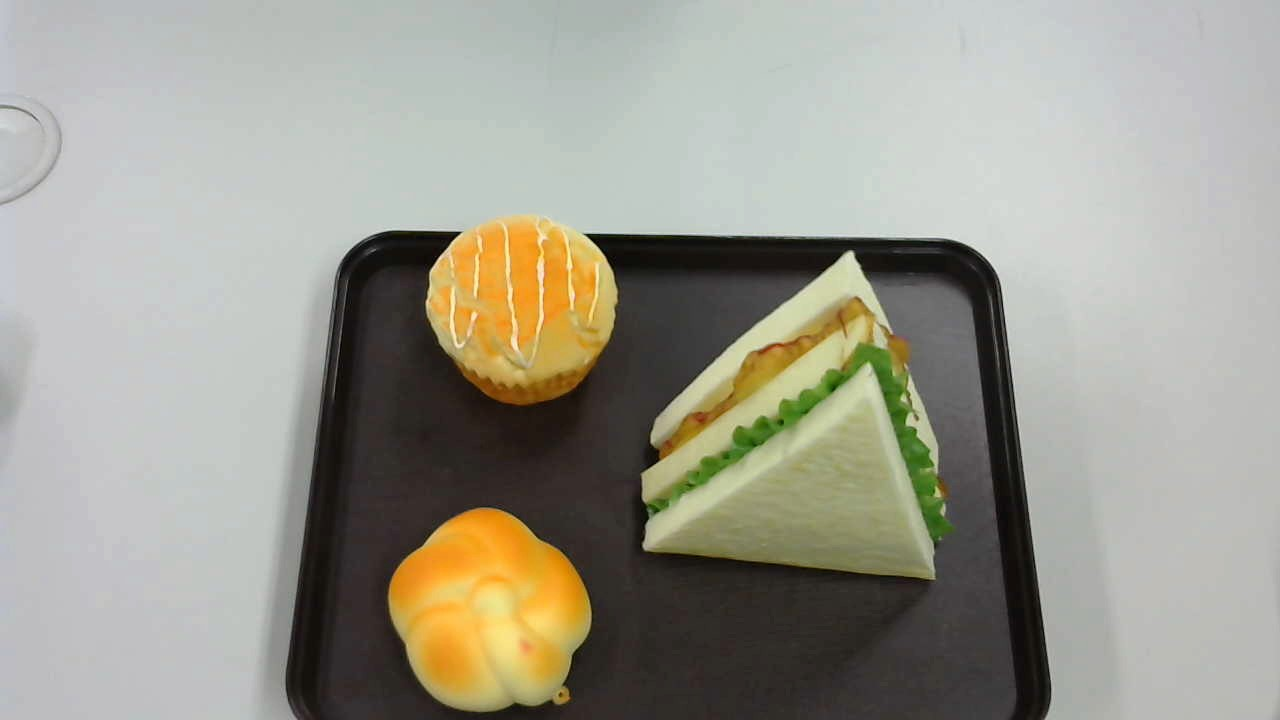cupcake: (427, 217, 618, 401)
sandwich: (640, 249, 957, 581)
twist bread: (387, 508, 591, 711)
